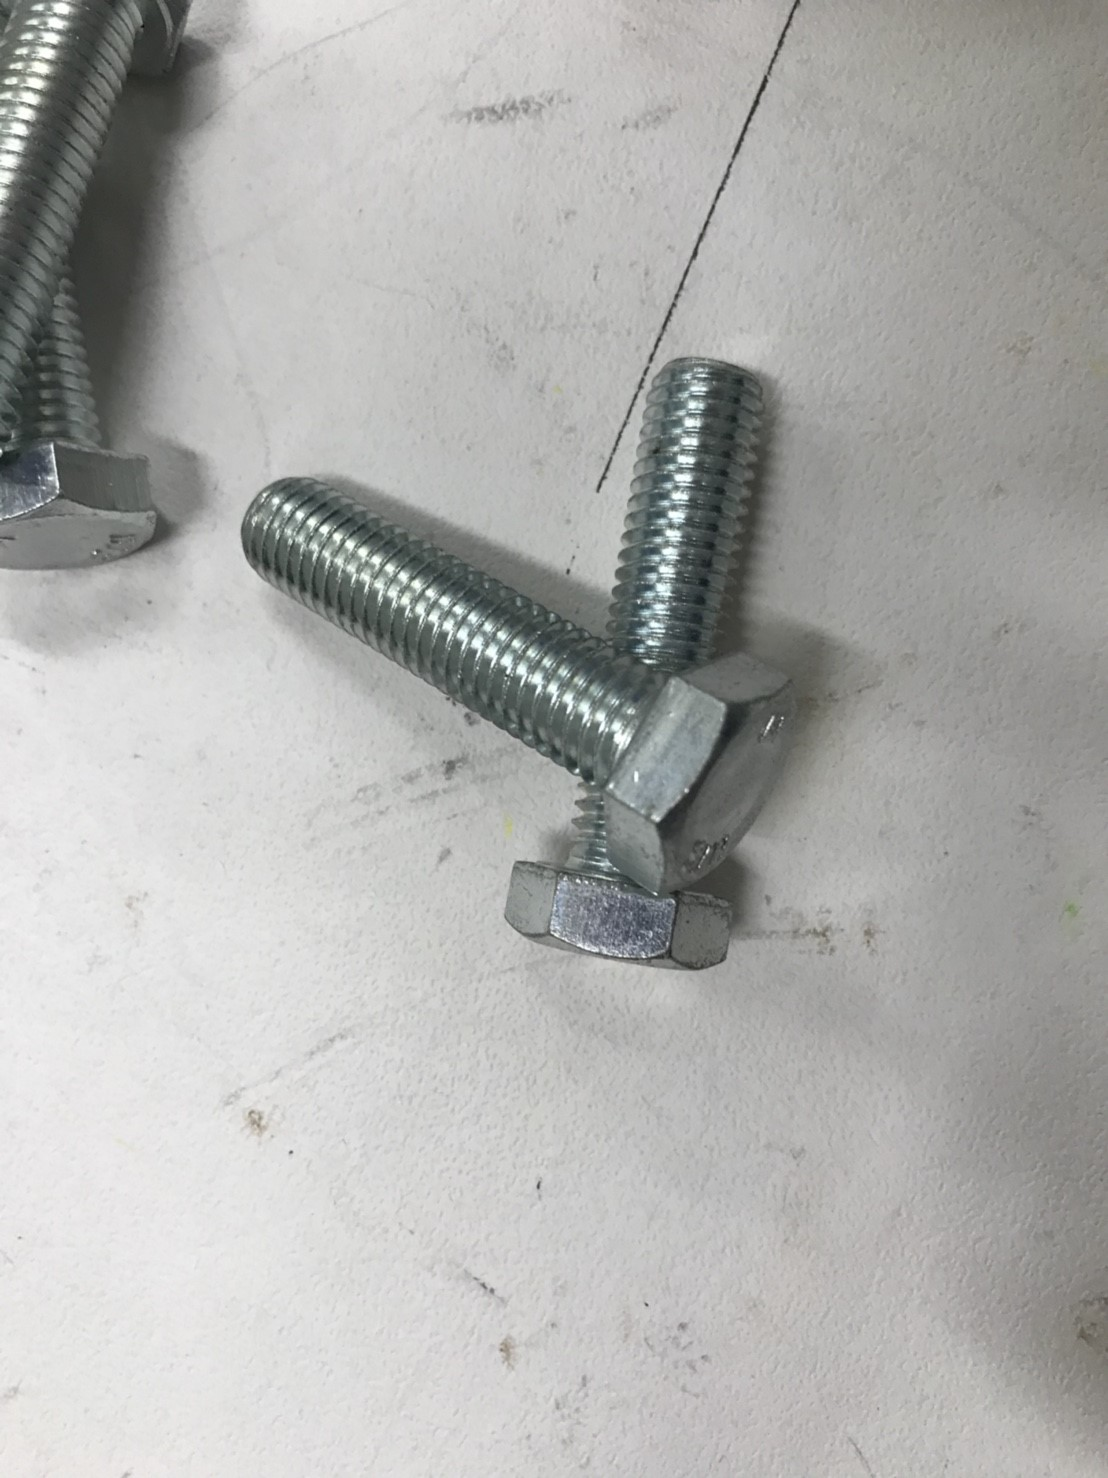screw: (228, 481, 790, 893), (500, 312, 784, 964)
